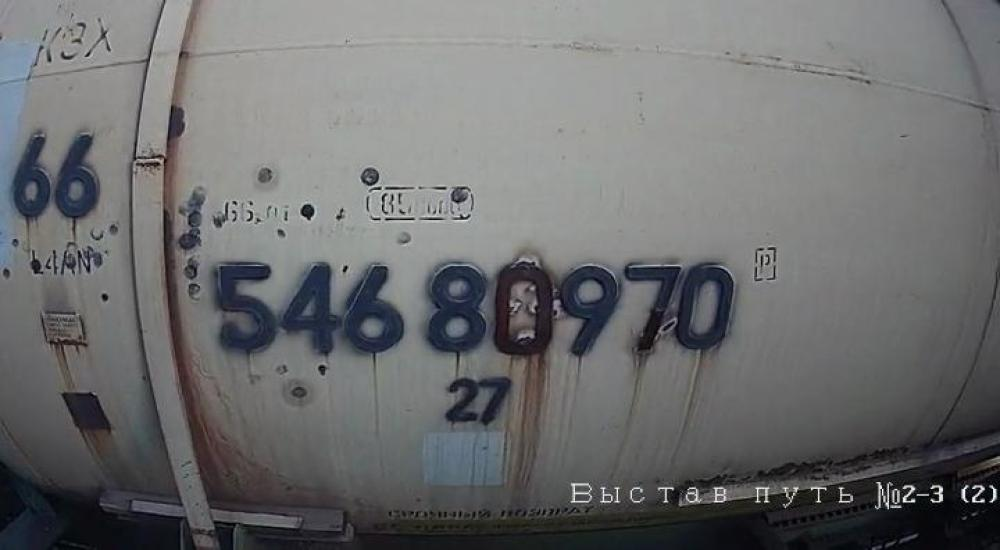Wagon-number: (212, 255, 742, 362)
